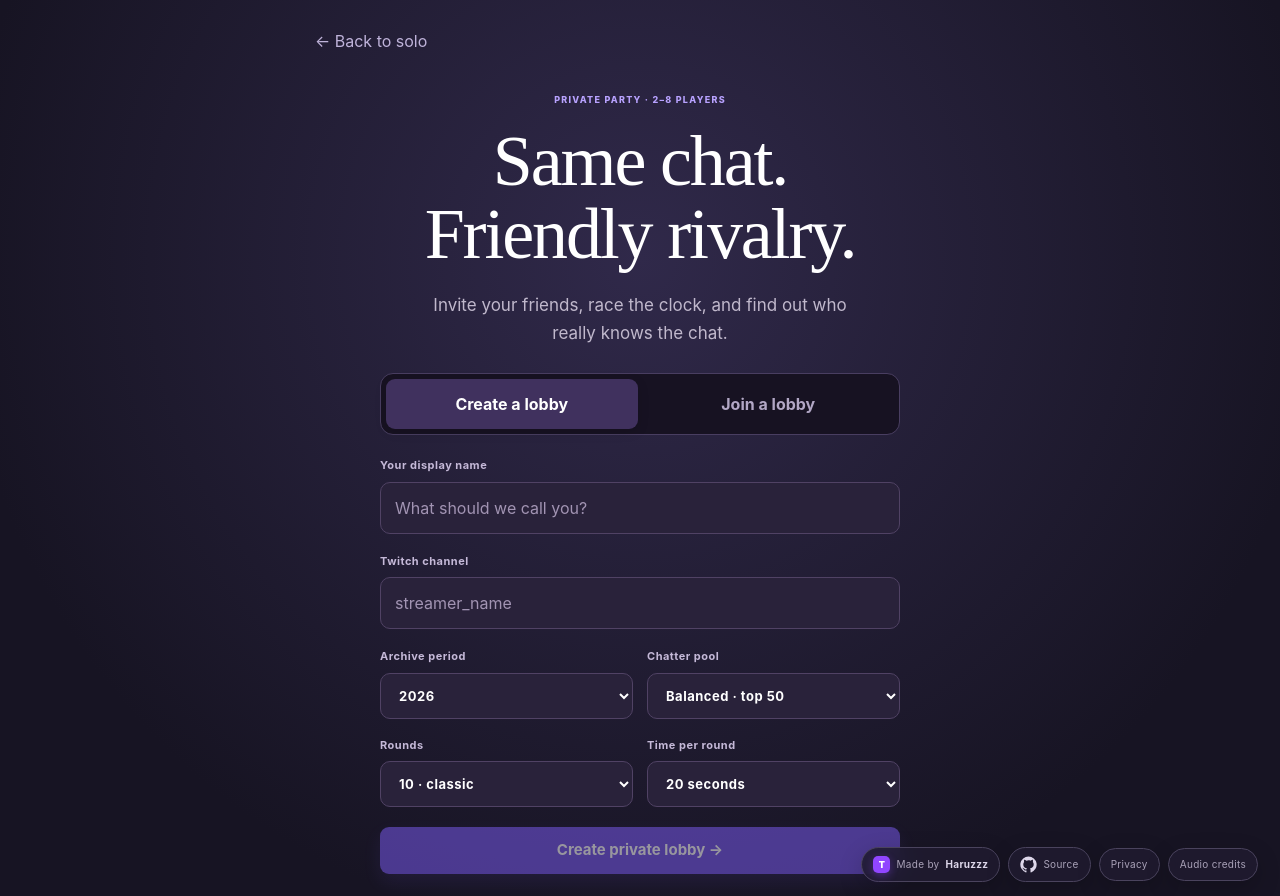
Test case: private party game › waits past the archive deadline to receive the server's preparation timeout and retry delay
The image size is (1280, 896).
In the field labelled "Your display name": (640, 508) [380,482,900,534], type "Harun"
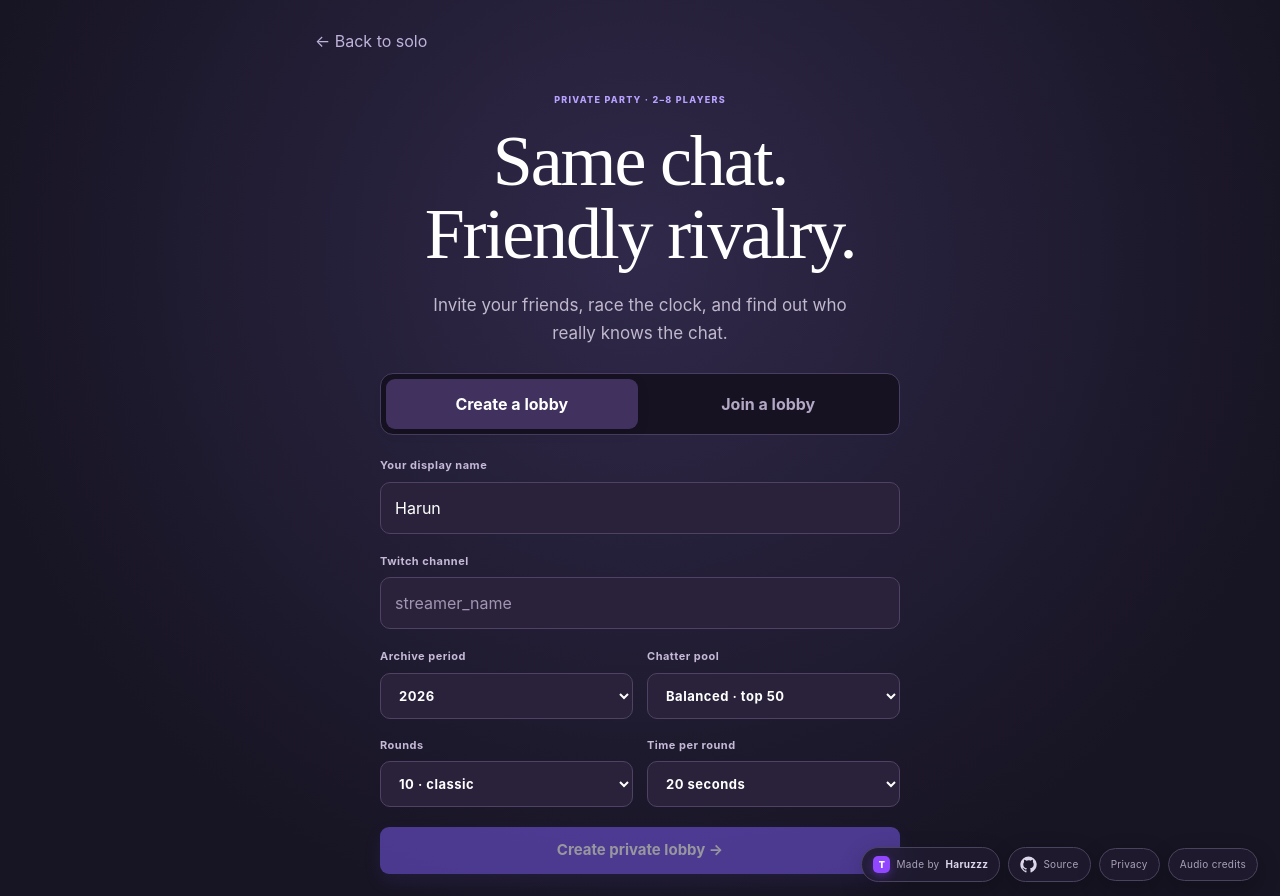
In the field labelled "Twitch channel": (640, 604) [380,578,900,630], type "example"
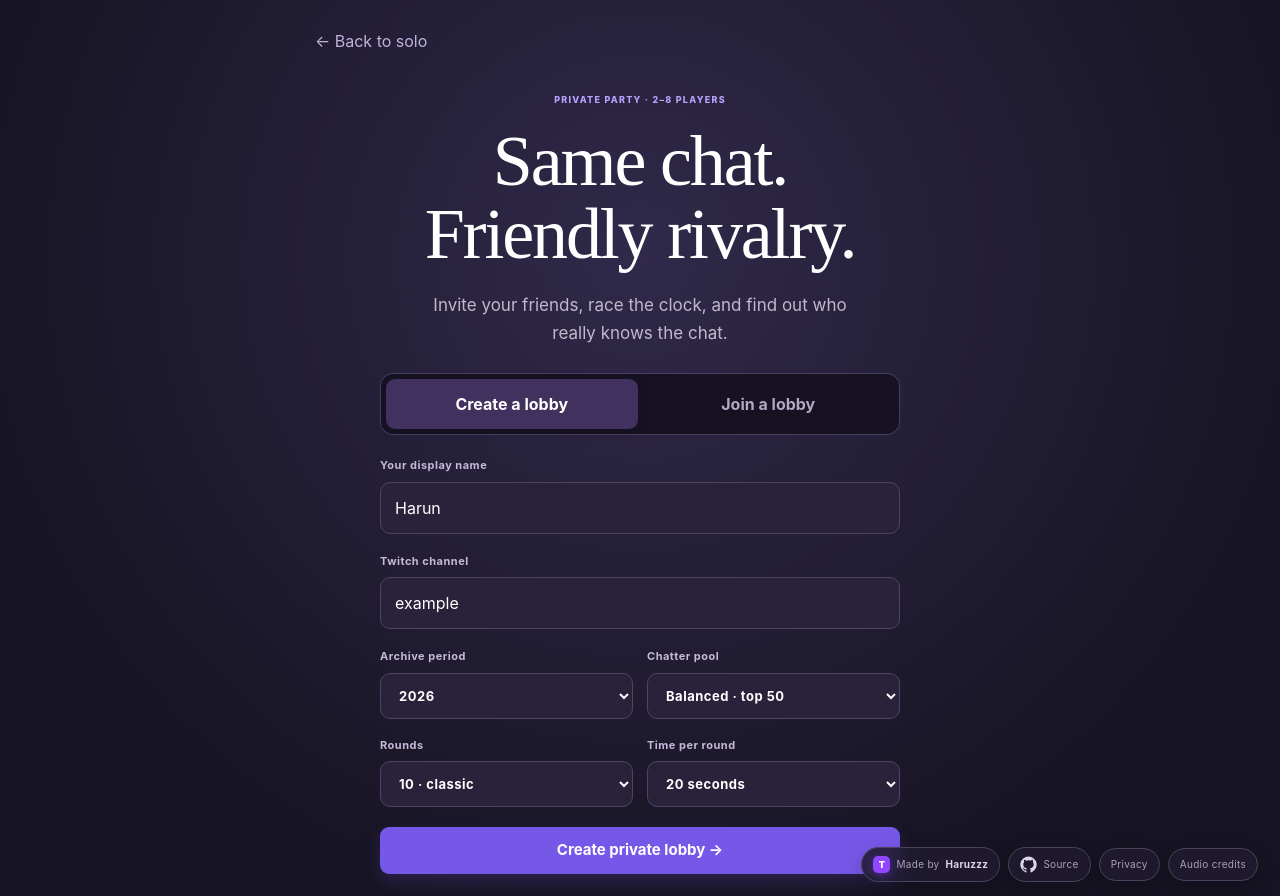
Click the button "Create private lobby →": click(640, 851) [380,828,900,874]
Wait 95000 ms
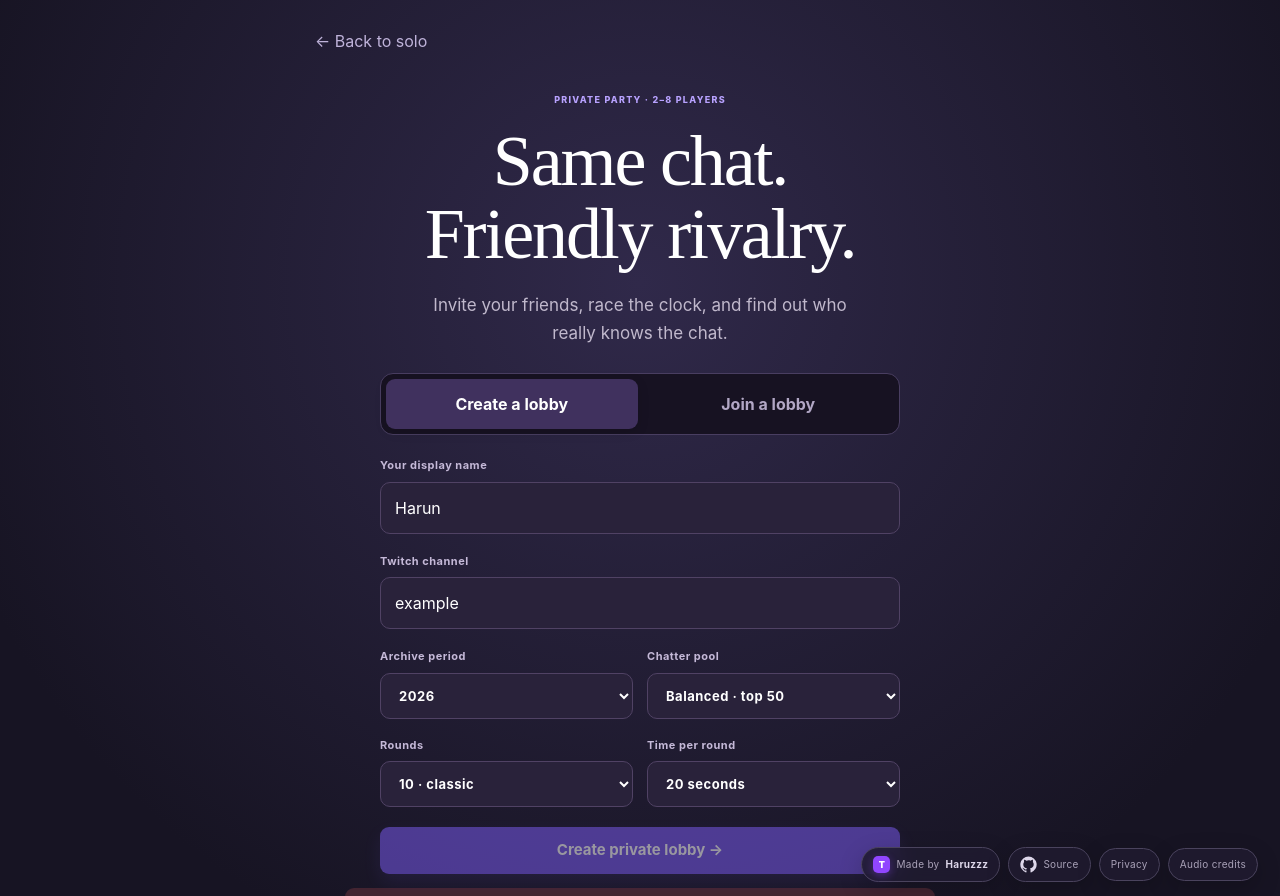
Expected: the button "Create private lobby →" is disabled, [380,828,900,874]
